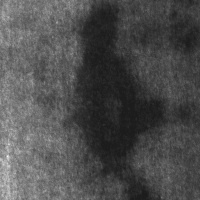patches: (75, 6, 165, 163), (120, 173, 161, 200), (170, 20, 199, 54)
